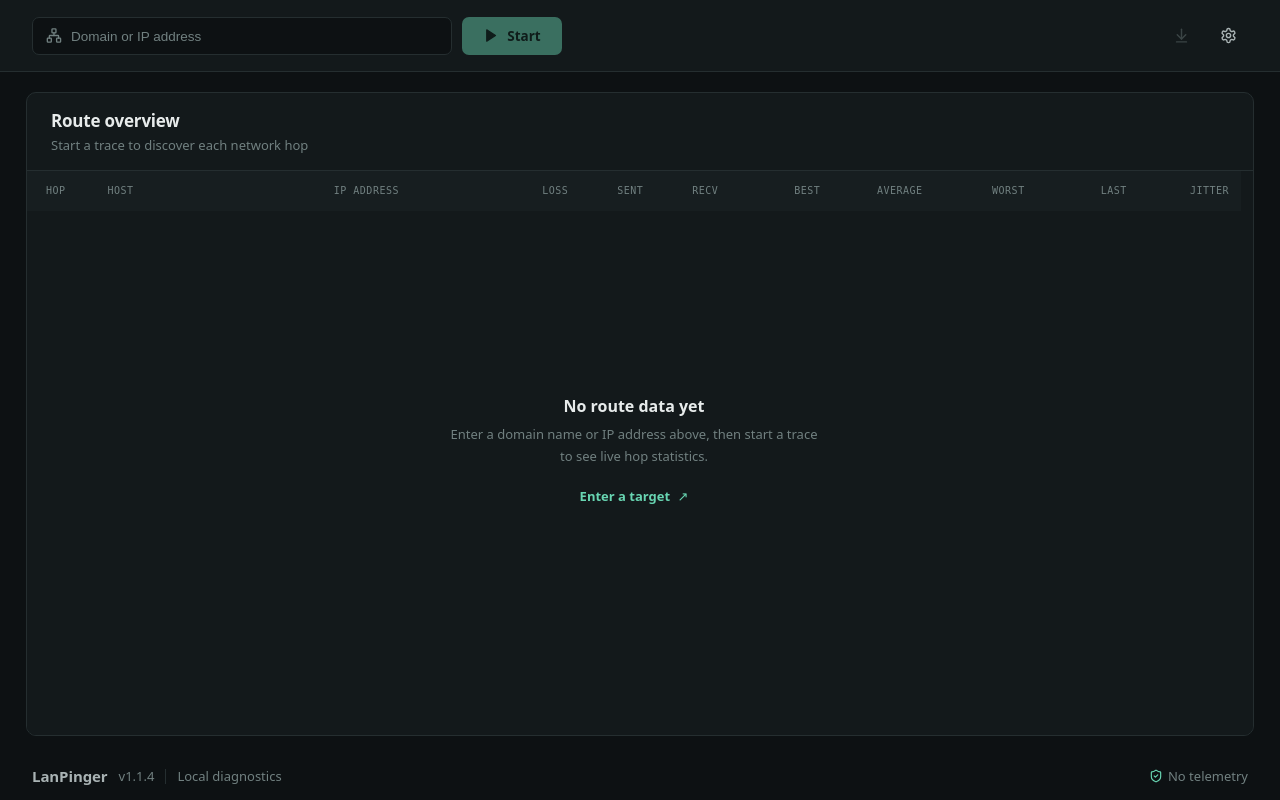
Test: LanPinger interface › updates route rows from the batched Rust event
The image size is (1280, 800).
In the field named "Host name or IP address": x=254, y=36 [71, 28, 438, 44], type "example.com"
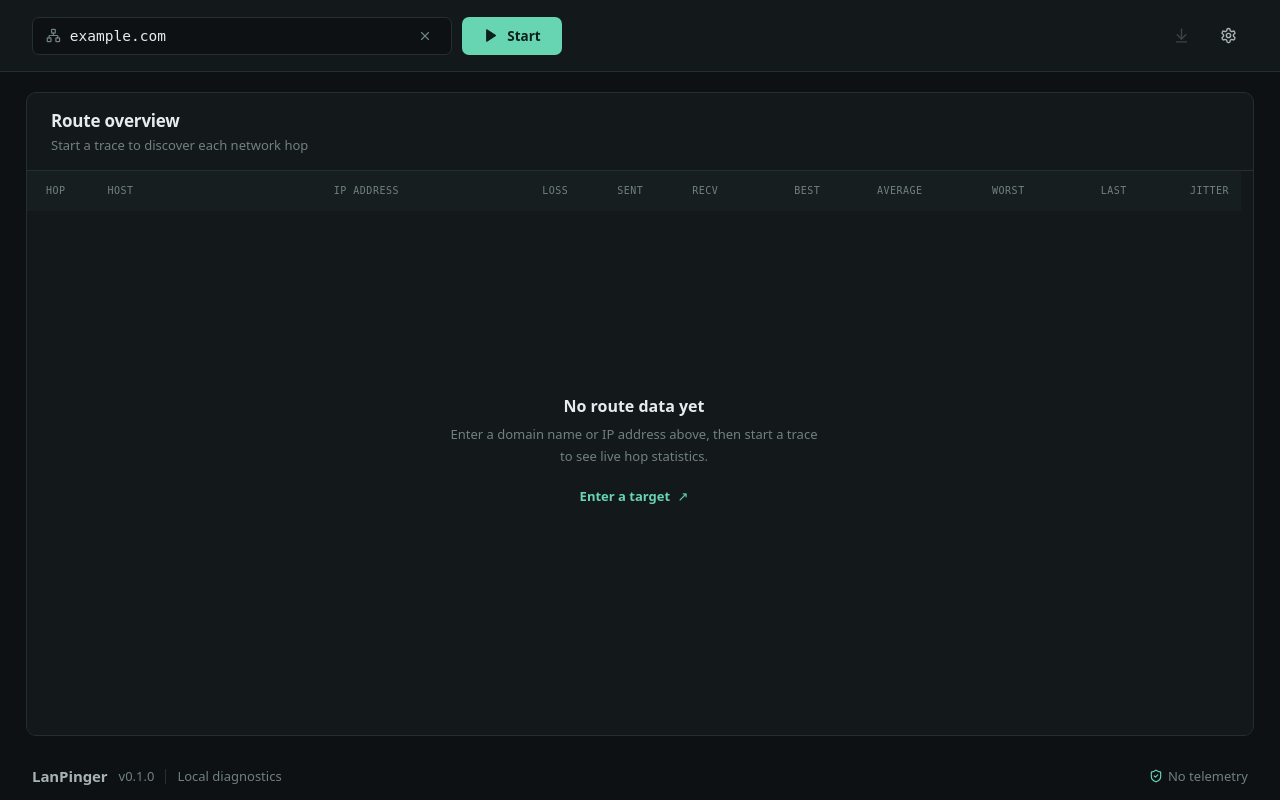
Click the button "Start": x=512, y=36 [462, 16, 562, 54]
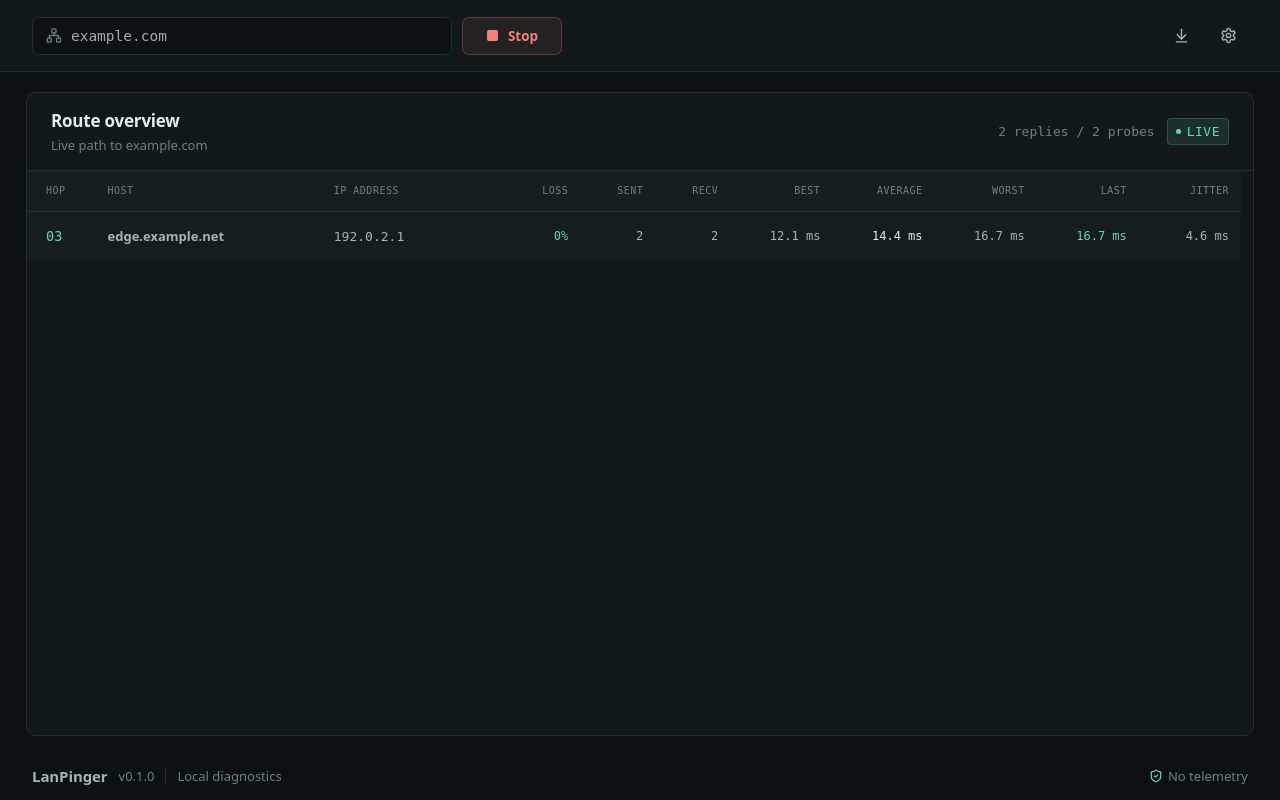
expect the text "edge.example.net" is shown: met, box [96, 211, 322, 261]
expect the text "192.0.2.1" is shown: met, box [334, 229, 404, 244]
expect the text "2 replies / 2 probes" is shown: met, box [998, 124, 1155, 139]
